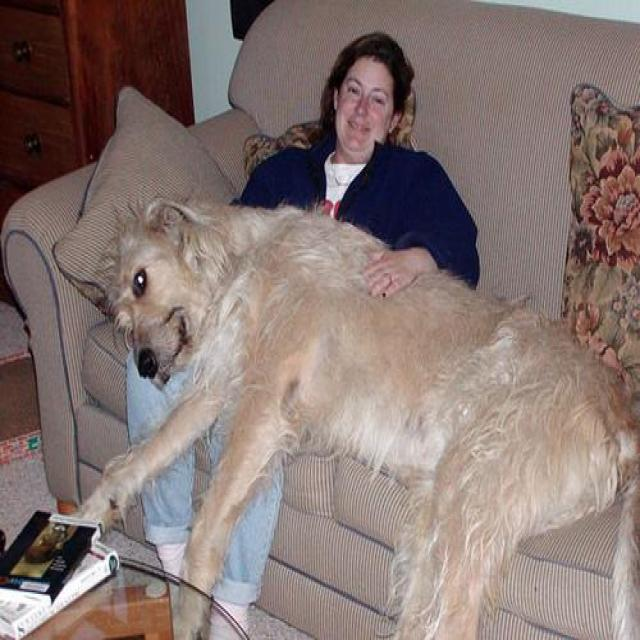irish_wolfhound: (68, 196, 639, 638)
